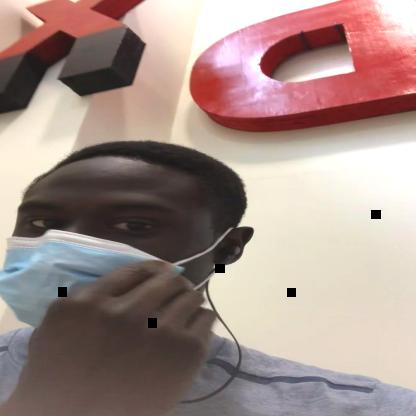mask: (0, 175, 231, 330)
